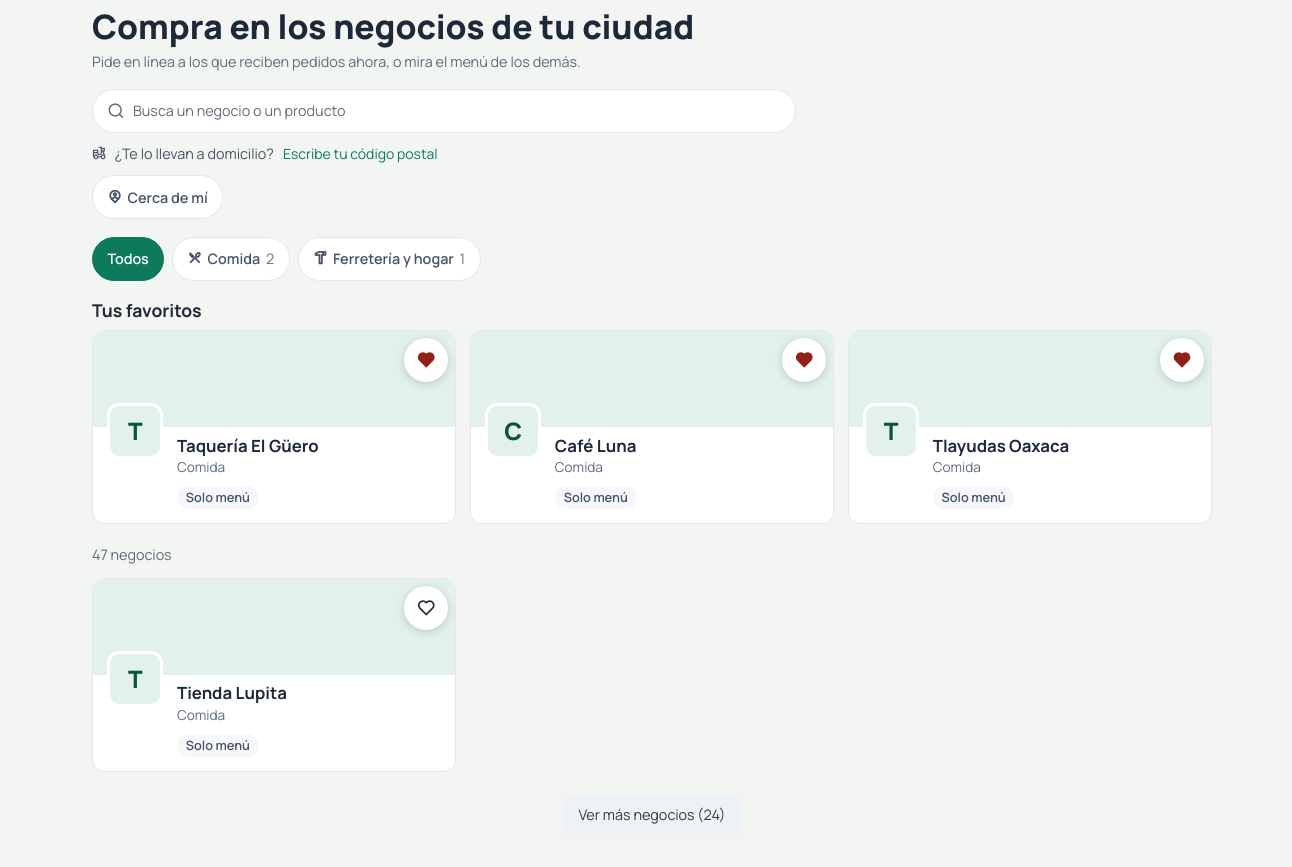
Test case: ExplorePage › counts the list and «Ver más» without the favorites, on whichever page they are
Check: the text "47 negocios" is shown, box [92,545,172,564]
Click the button "Ver más negocios (24)" at [652, 815], box [563,796,741,834]
(page scrolled)
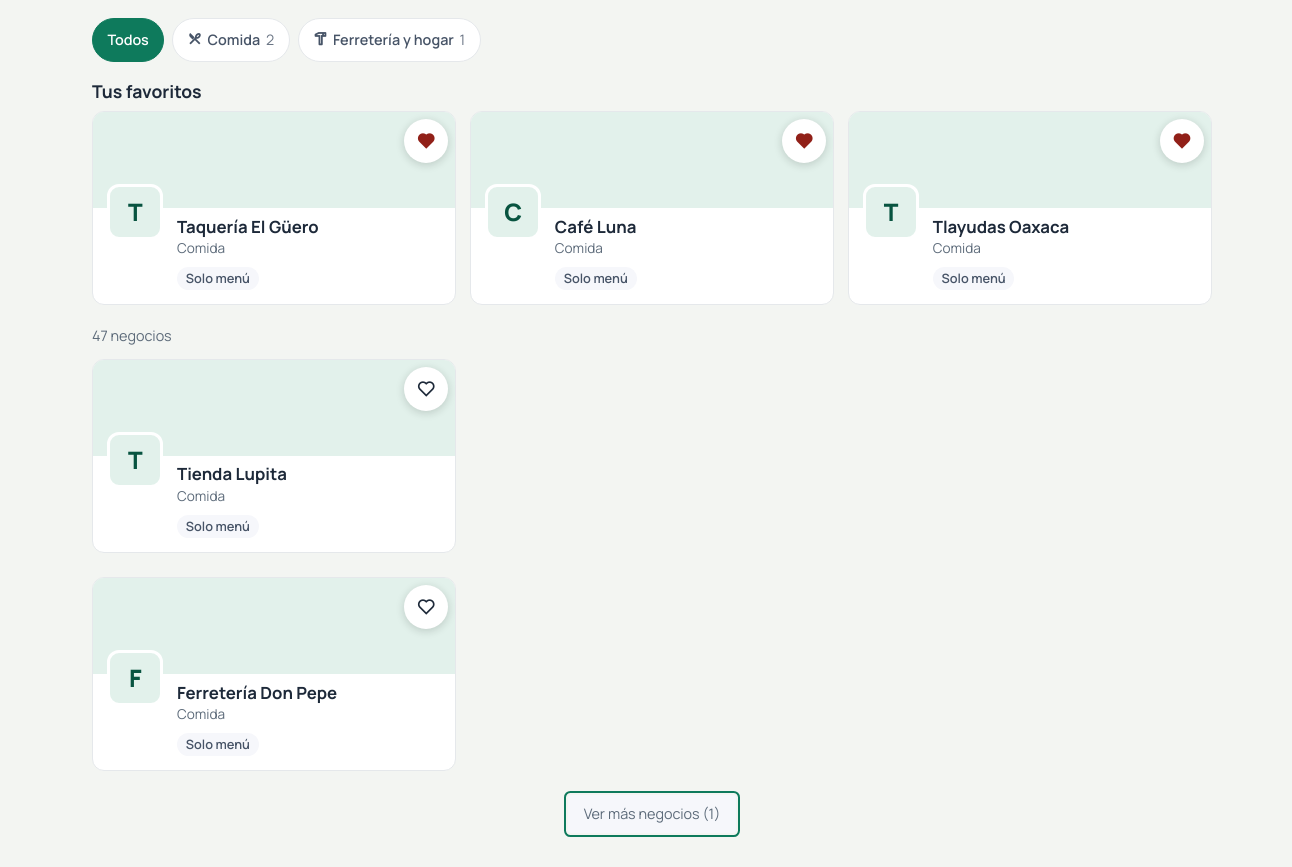
Click the button "Ver más negocios (1)" at [652, 814], box [568,795,736,833]
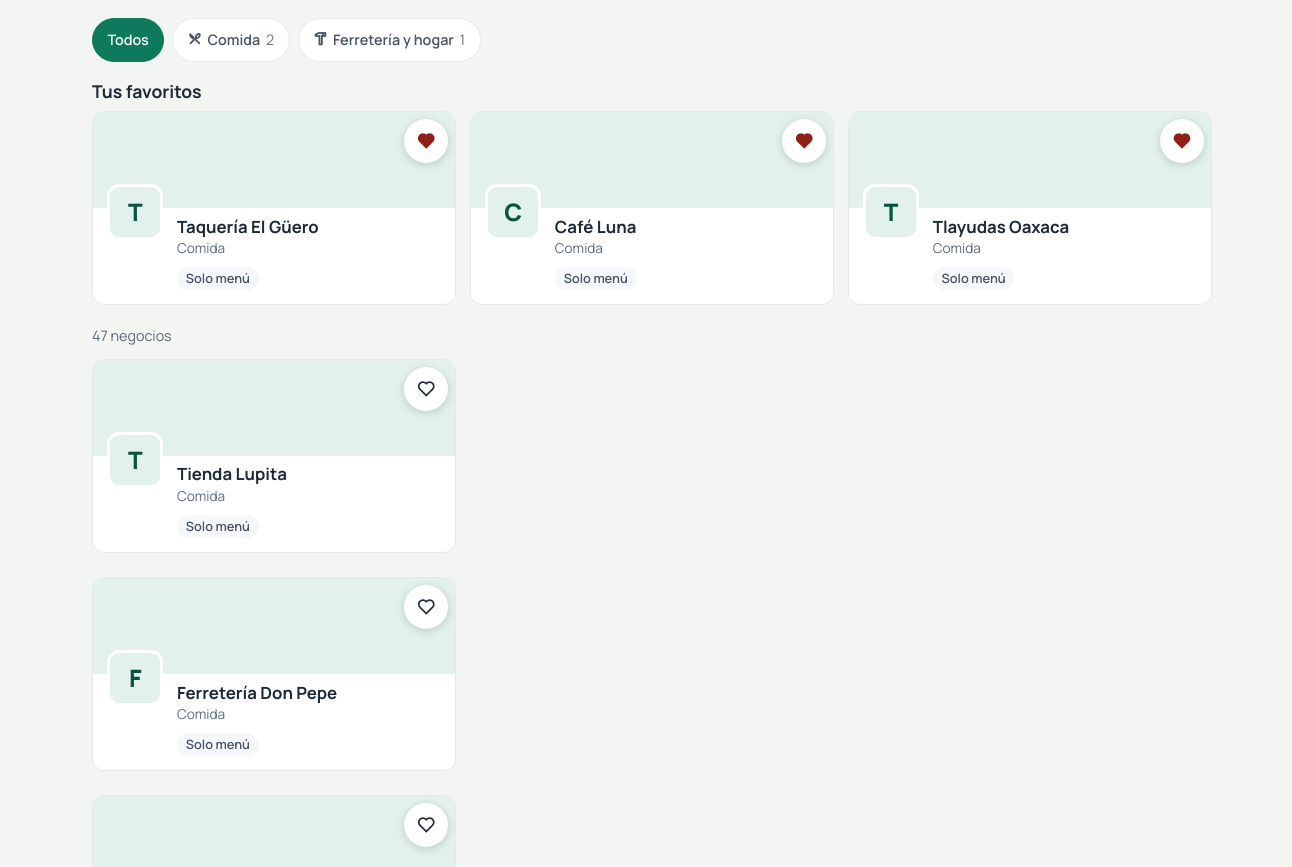
Check: the link "T Tienda Lupita Comida Solo menú" is shown, box [92,359,456,553]
Check: the link "F Ferretería Don Pepe Comida Solo menú" is shown, box [92,577,456,771]
Check: the button "Ver más" is gone
